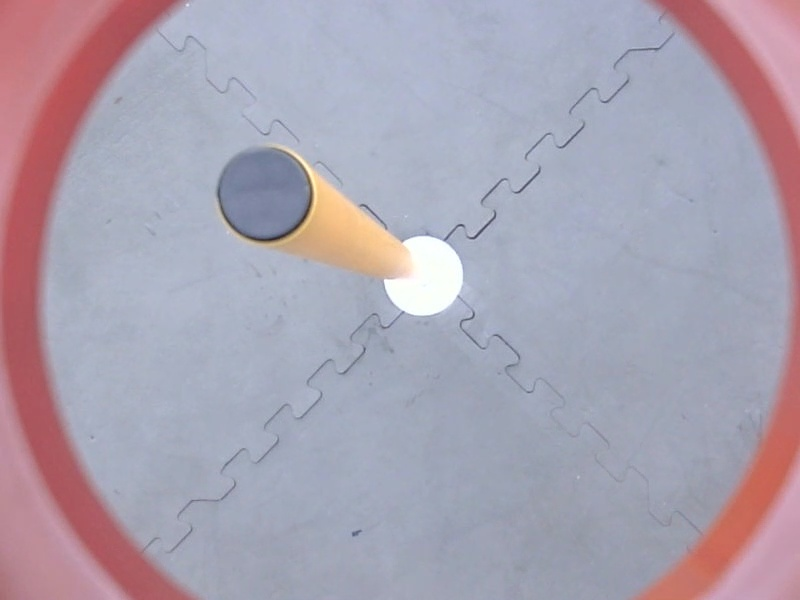tip: (211, 140, 320, 250)
